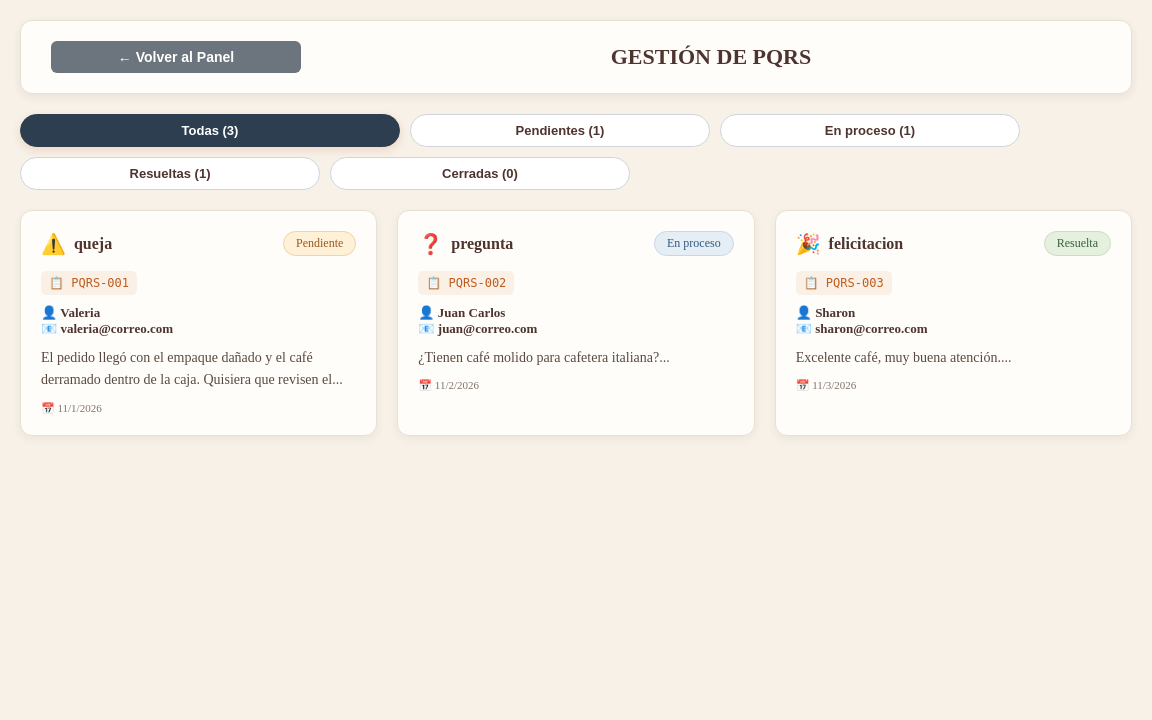
Test: VerPqrs - actualizar estado › el select ofrece los 4 estados
Check: the heading "GESTIÓN DE PQRS" is shown, box x1=611 y1=44 x2=811 y2=69
Click the text "📋 PQRS-001" at (89, 283), box x1=41 y1=271 x2=137 y2=295
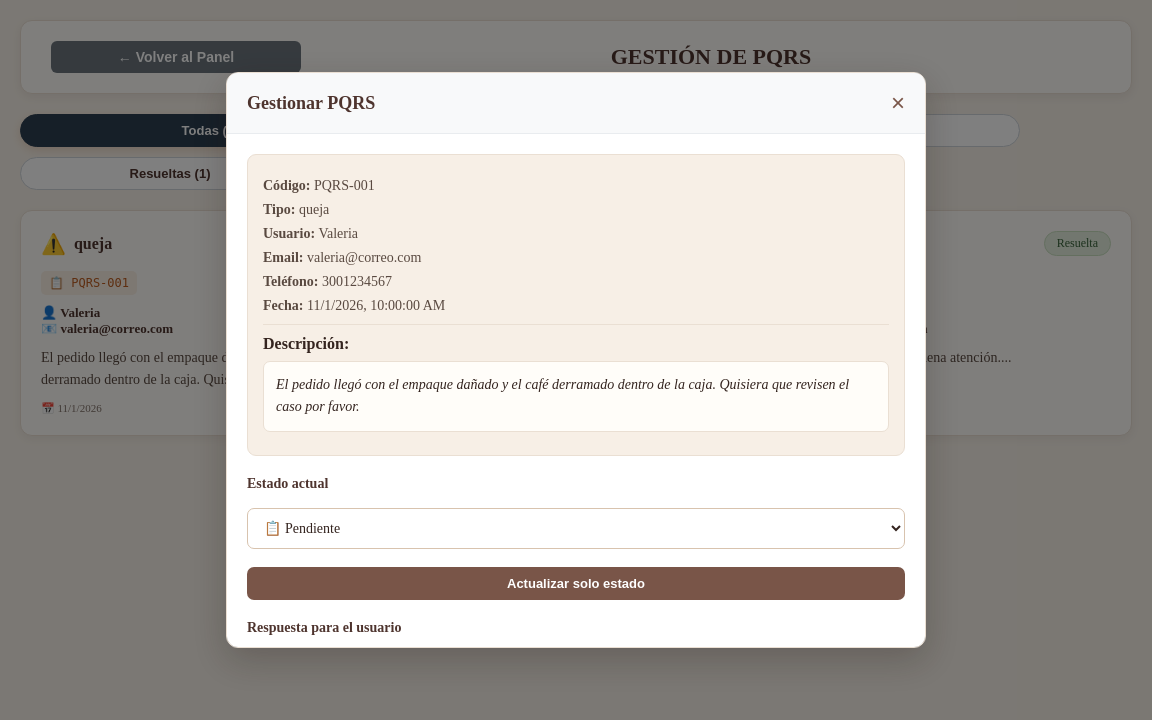
Check: the heading "Gestionar PQRS" is shown, box x1=247 y1=92 x2=375 y2=114
